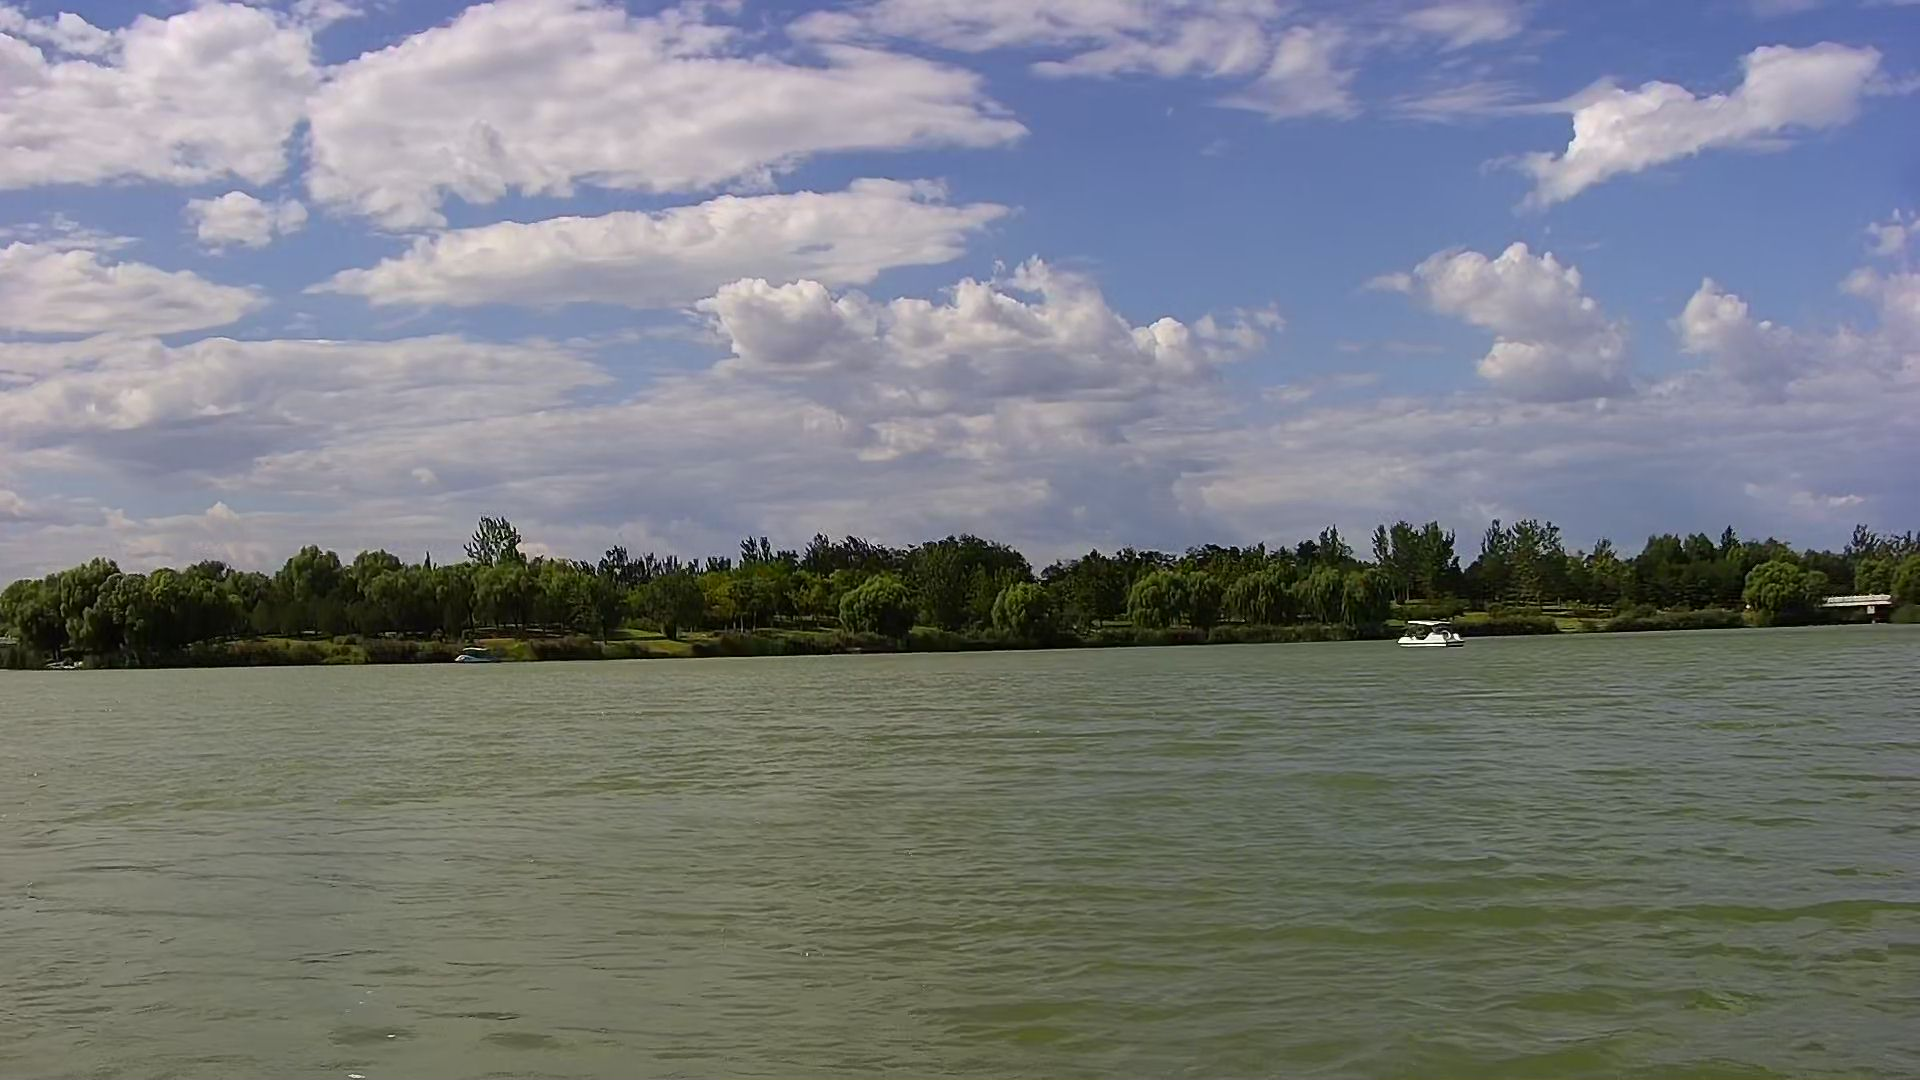boat: (1386, 613, 1474, 650), (446, 640, 512, 669)
